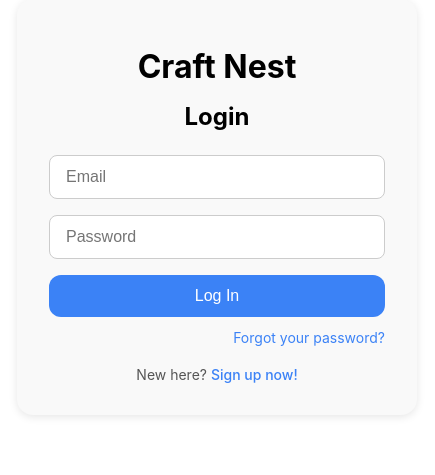
Scenario: Login Component Given/When/Then Tests › Given empty inputs, When form submitted, Then show "Email and password required."
This screenshot has width=435, height=475.
Click the button "Log In" at (217, 296), box [49,275,385,317]
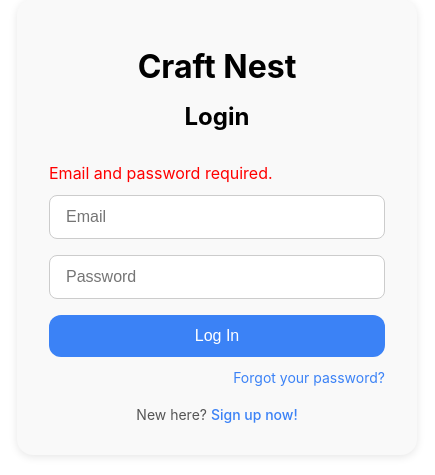
Expected: the text "Email and password required." is shown, [49,163,273,183]
